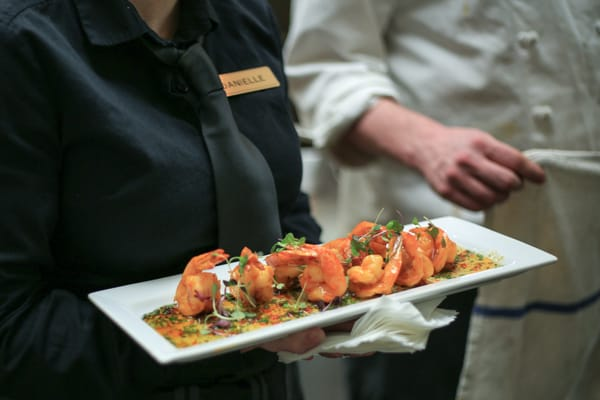pizza: (0, 0, 291, 387), (282, 1, 594, 231)
